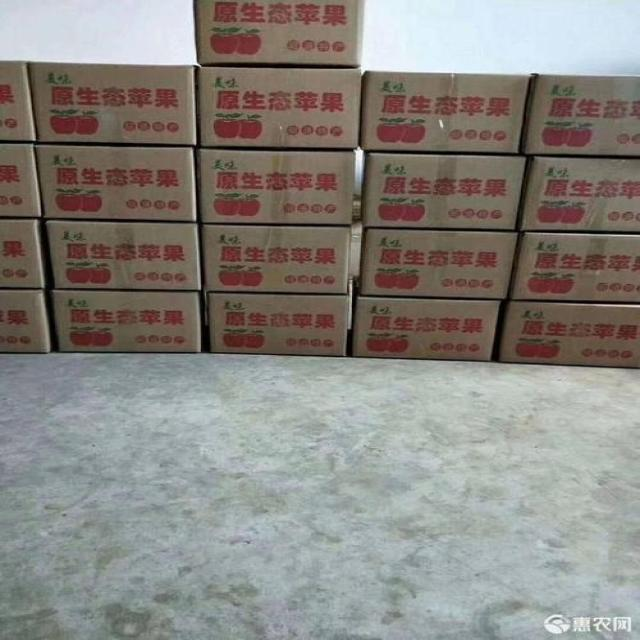box: (26, 60, 197, 145), (358, 70, 531, 153), (196, 66, 361, 151), (361, 153, 525, 231), (353, 275, 500, 362), (35, 145, 197, 222), (197, 148, 356, 226), (193, 0, 364, 68), (360, 227, 518, 299), (46, 222, 201, 290), (200, 225, 349, 295), (521, 74, 640, 155), (507, 231, 640, 303), (498, 301, 640, 368), (515, 155, 640, 231), (51, 290, 201, 353), (207, 294, 349, 356), (0, 289, 52, 354), (0, 219, 47, 289), (0, 143, 42, 217), (0, 60, 37, 143)
